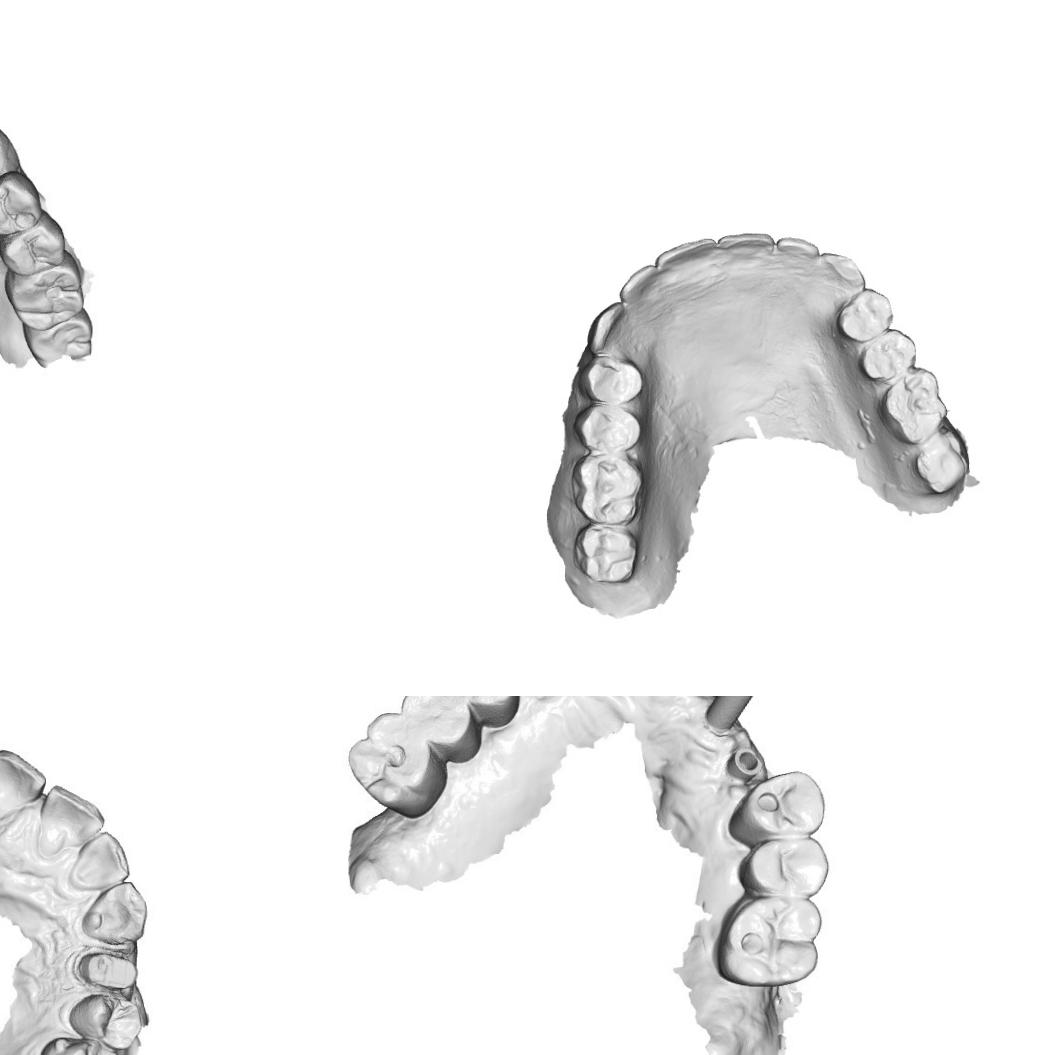canine: (80, 882, 146, 947), (584, 300, 635, 358), (816, 250, 866, 300)
crown: (80, 948, 137, 989)
implant: (704, 696, 760, 736), (724, 740, 762, 780)
incisor: (31, 781, 100, 855), (72, 832, 130, 894), (0, 748, 46, 818), (656, 236, 717, 286), (713, 228, 776, 276), (618, 260, 661, 314), (774, 234, 822, 270)
molar: (344, 712, 450, 827), (714, 895, 828, 990), (0, 250, 87, 333), (877, 364, 950, 445), (568, 450, 645, 524), (570, 519, 640, 586), (907, 431, 972, 499), (29, 1034, 124, 1055)
premolar: (740, 770, 830, 836), (738, 838, 828, 898), (69, 988, 142, 1047), (572, 400, 644, 454), (575, 354, 647, 405), (833, 285, 896, 342), (855, 326, 919, 382), (0, 224, 64, 277), (403, 696, 472, 743), (0, 170, 39, 234)
